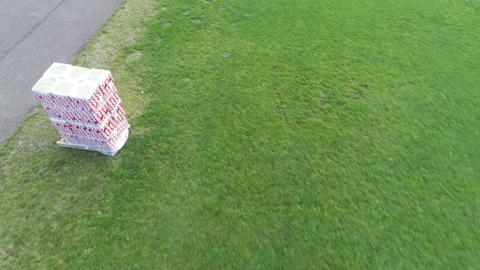RockwoolPallet: (31, 62, 130, 154)
